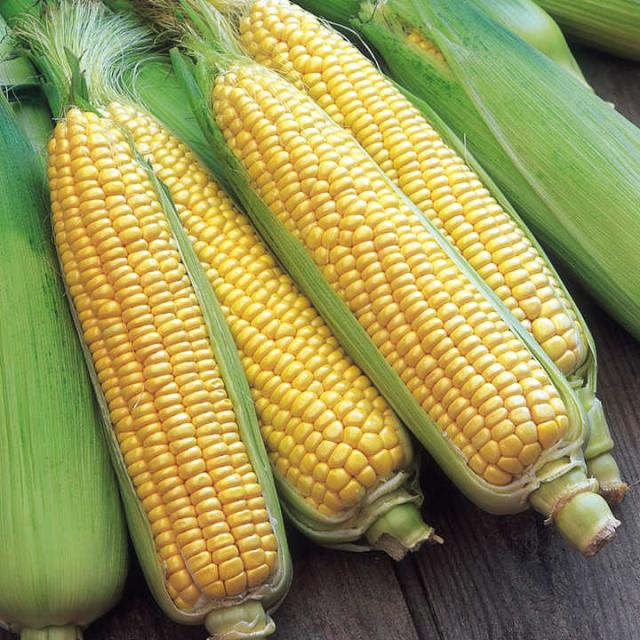corn: (91, 52, 447, 569), (218, 59, 604, 534), (246, 0, 599, 394), (39, 86, 289, 613)
